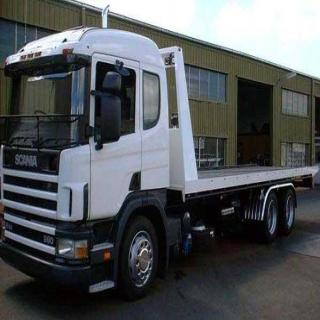Towing_truck: (1, 23, 318, 301)
